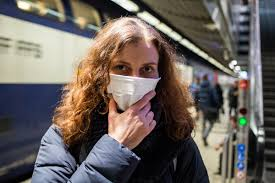surgical: (107, 72, 161, 113)
